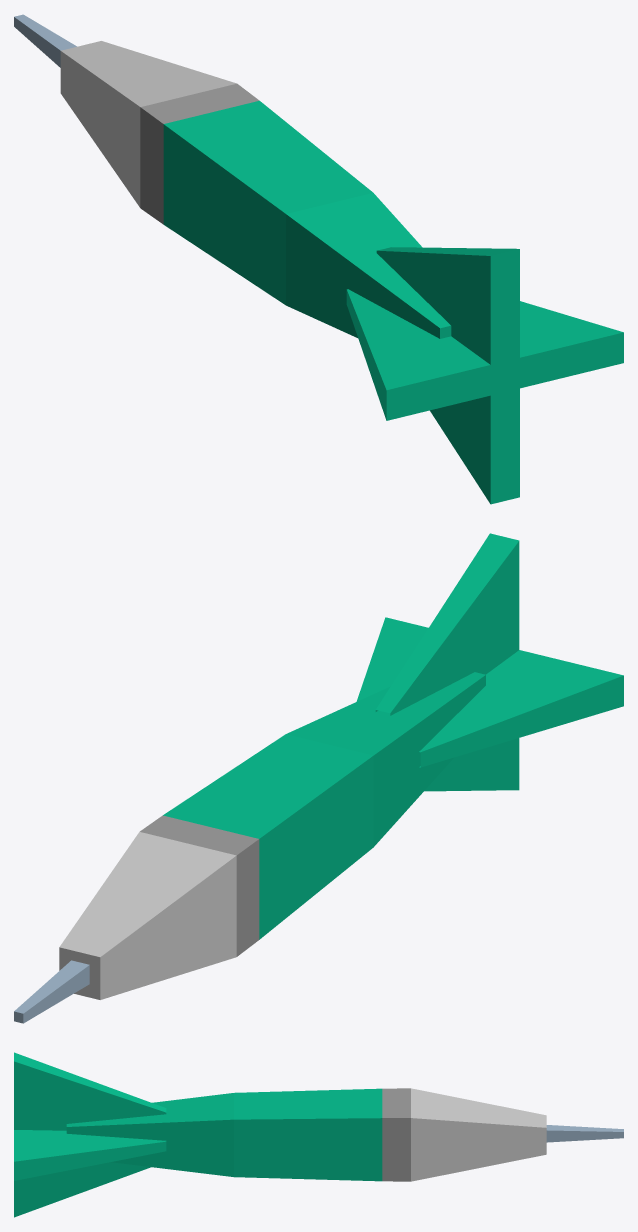
File: Dart Green.fbx
3 renders of one model, top to bottom at view 1: azimuth 30°, elevation 25°; view 2: azimuth 150°, elevation 25°; view 3: azimuth 270°, elevation 25°, orthographic. The views are drawn at different scales.
Parts seen in each view (by area): view 1: Dart Green; view 2: Dart Green; view 3: Dart Green.
Boxes of the visible parts, left/top/right/bottom form: Dart Green: left=14, top=14, right=623, bottom=504; Dart Green: left=14, top=533, right=623, bottom=1023; Dart Green: left=14, top=1052, right=623, bottom=1217.
Size of the model in its own units: 9.23 by 9.23 by 32.65.
